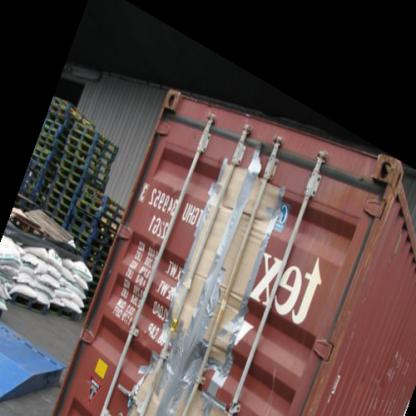Damage: (135, 147, 264, 415)
